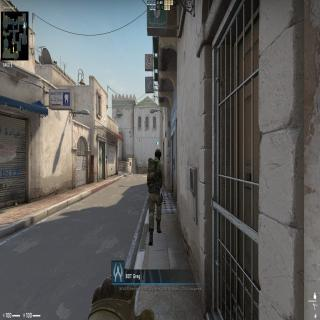CT-Head: (154, 148, 162, 160)
